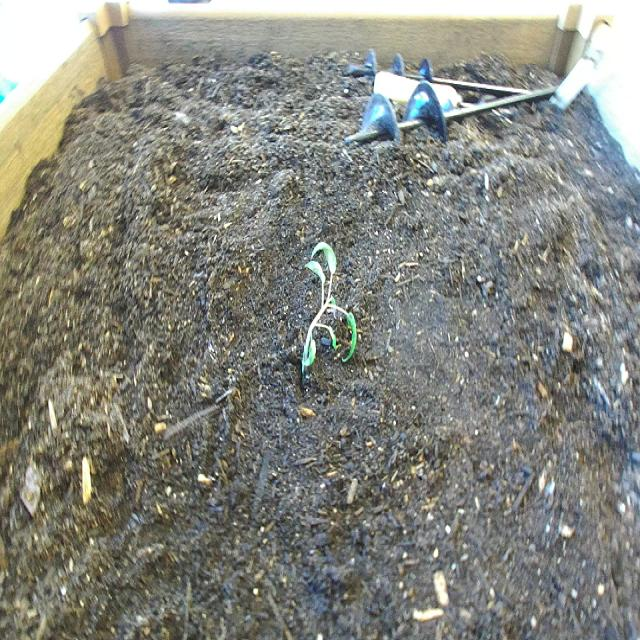Healthy: (289, 227, 362, 399)
